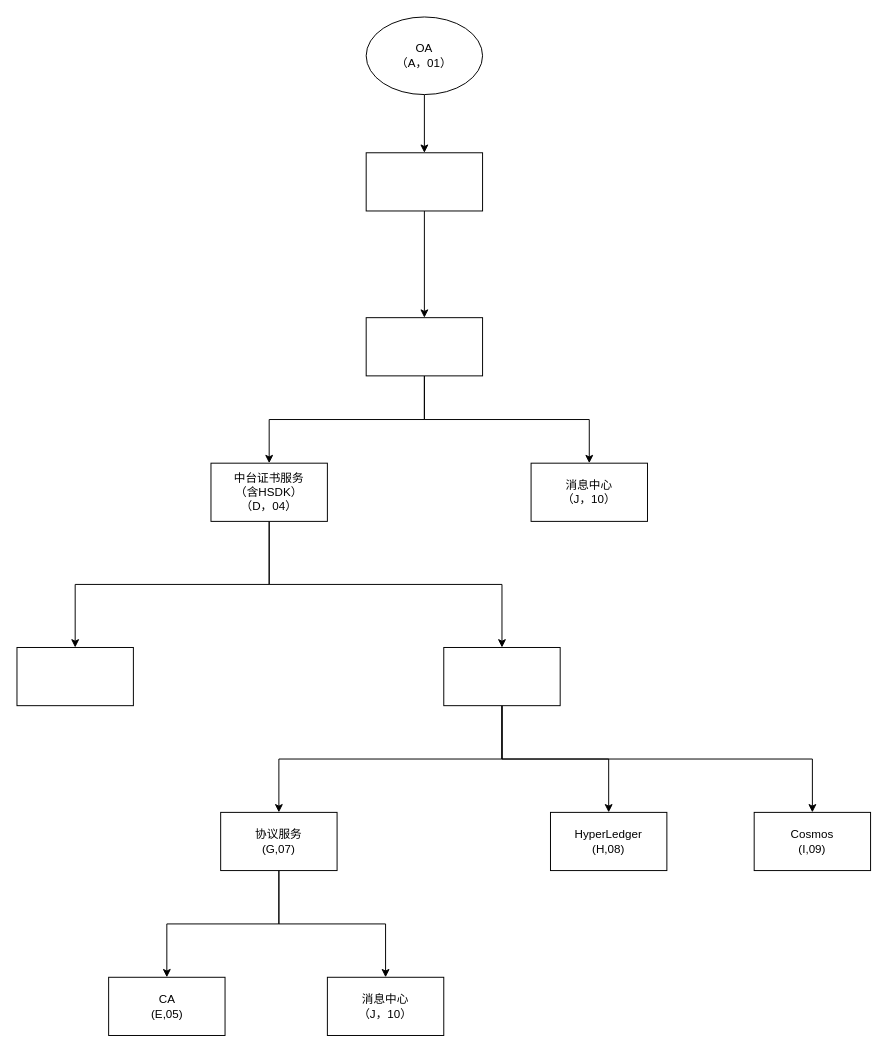
Some shapes in this 888 by 1052 pixel diagram are drawn without their labels. Here are the shapes that lost their labels. From the top down, the centre of each, then its label:
point (424, 181): 开发空间 （B，02）
point (424, 346): 注册中心 （C，03）
point (74, 676): CA服务 （E, 05）
point (501, 676): 中台协议中心 (F,06)
